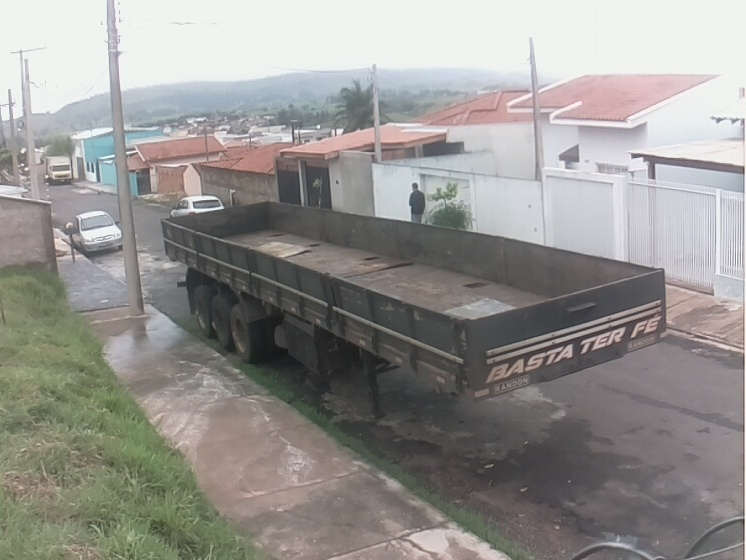person: (406, 181, 427, 227)
